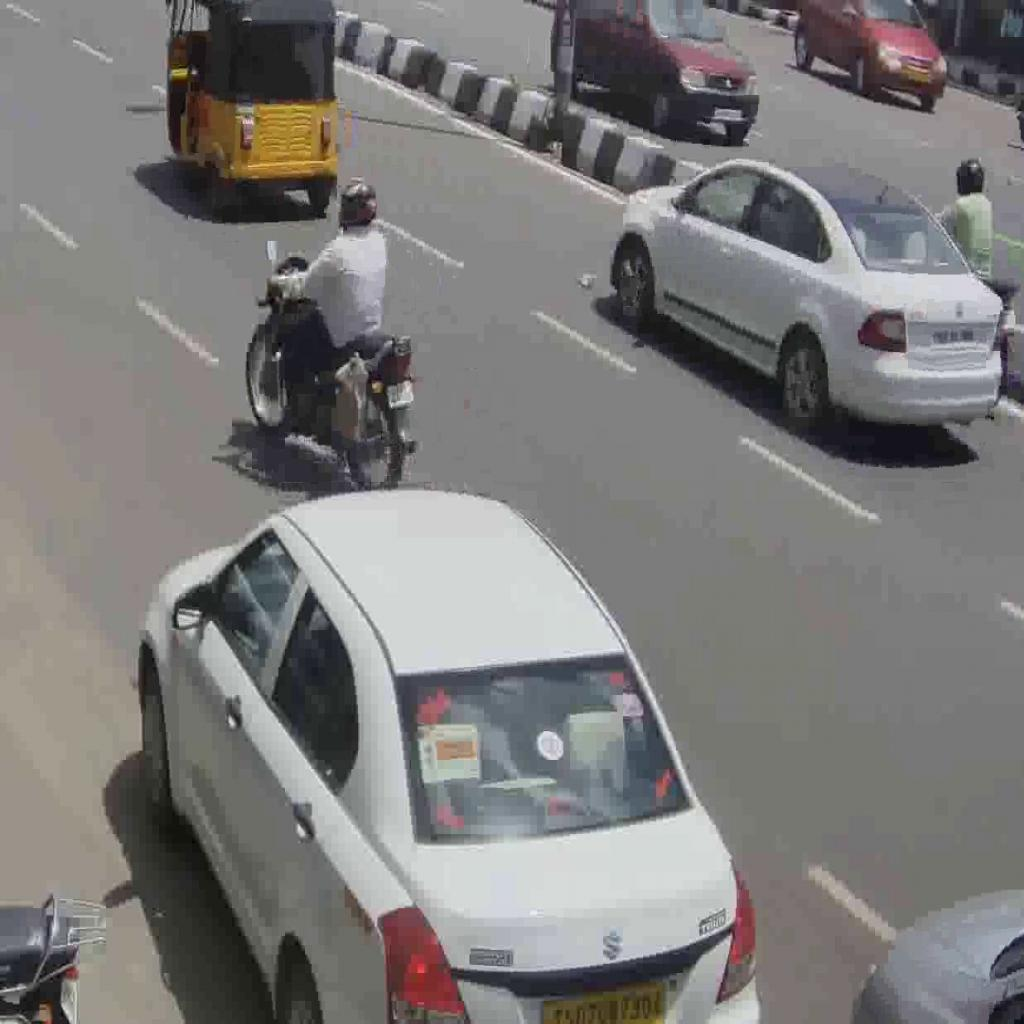helmet: (246, 252, 418, 492)
